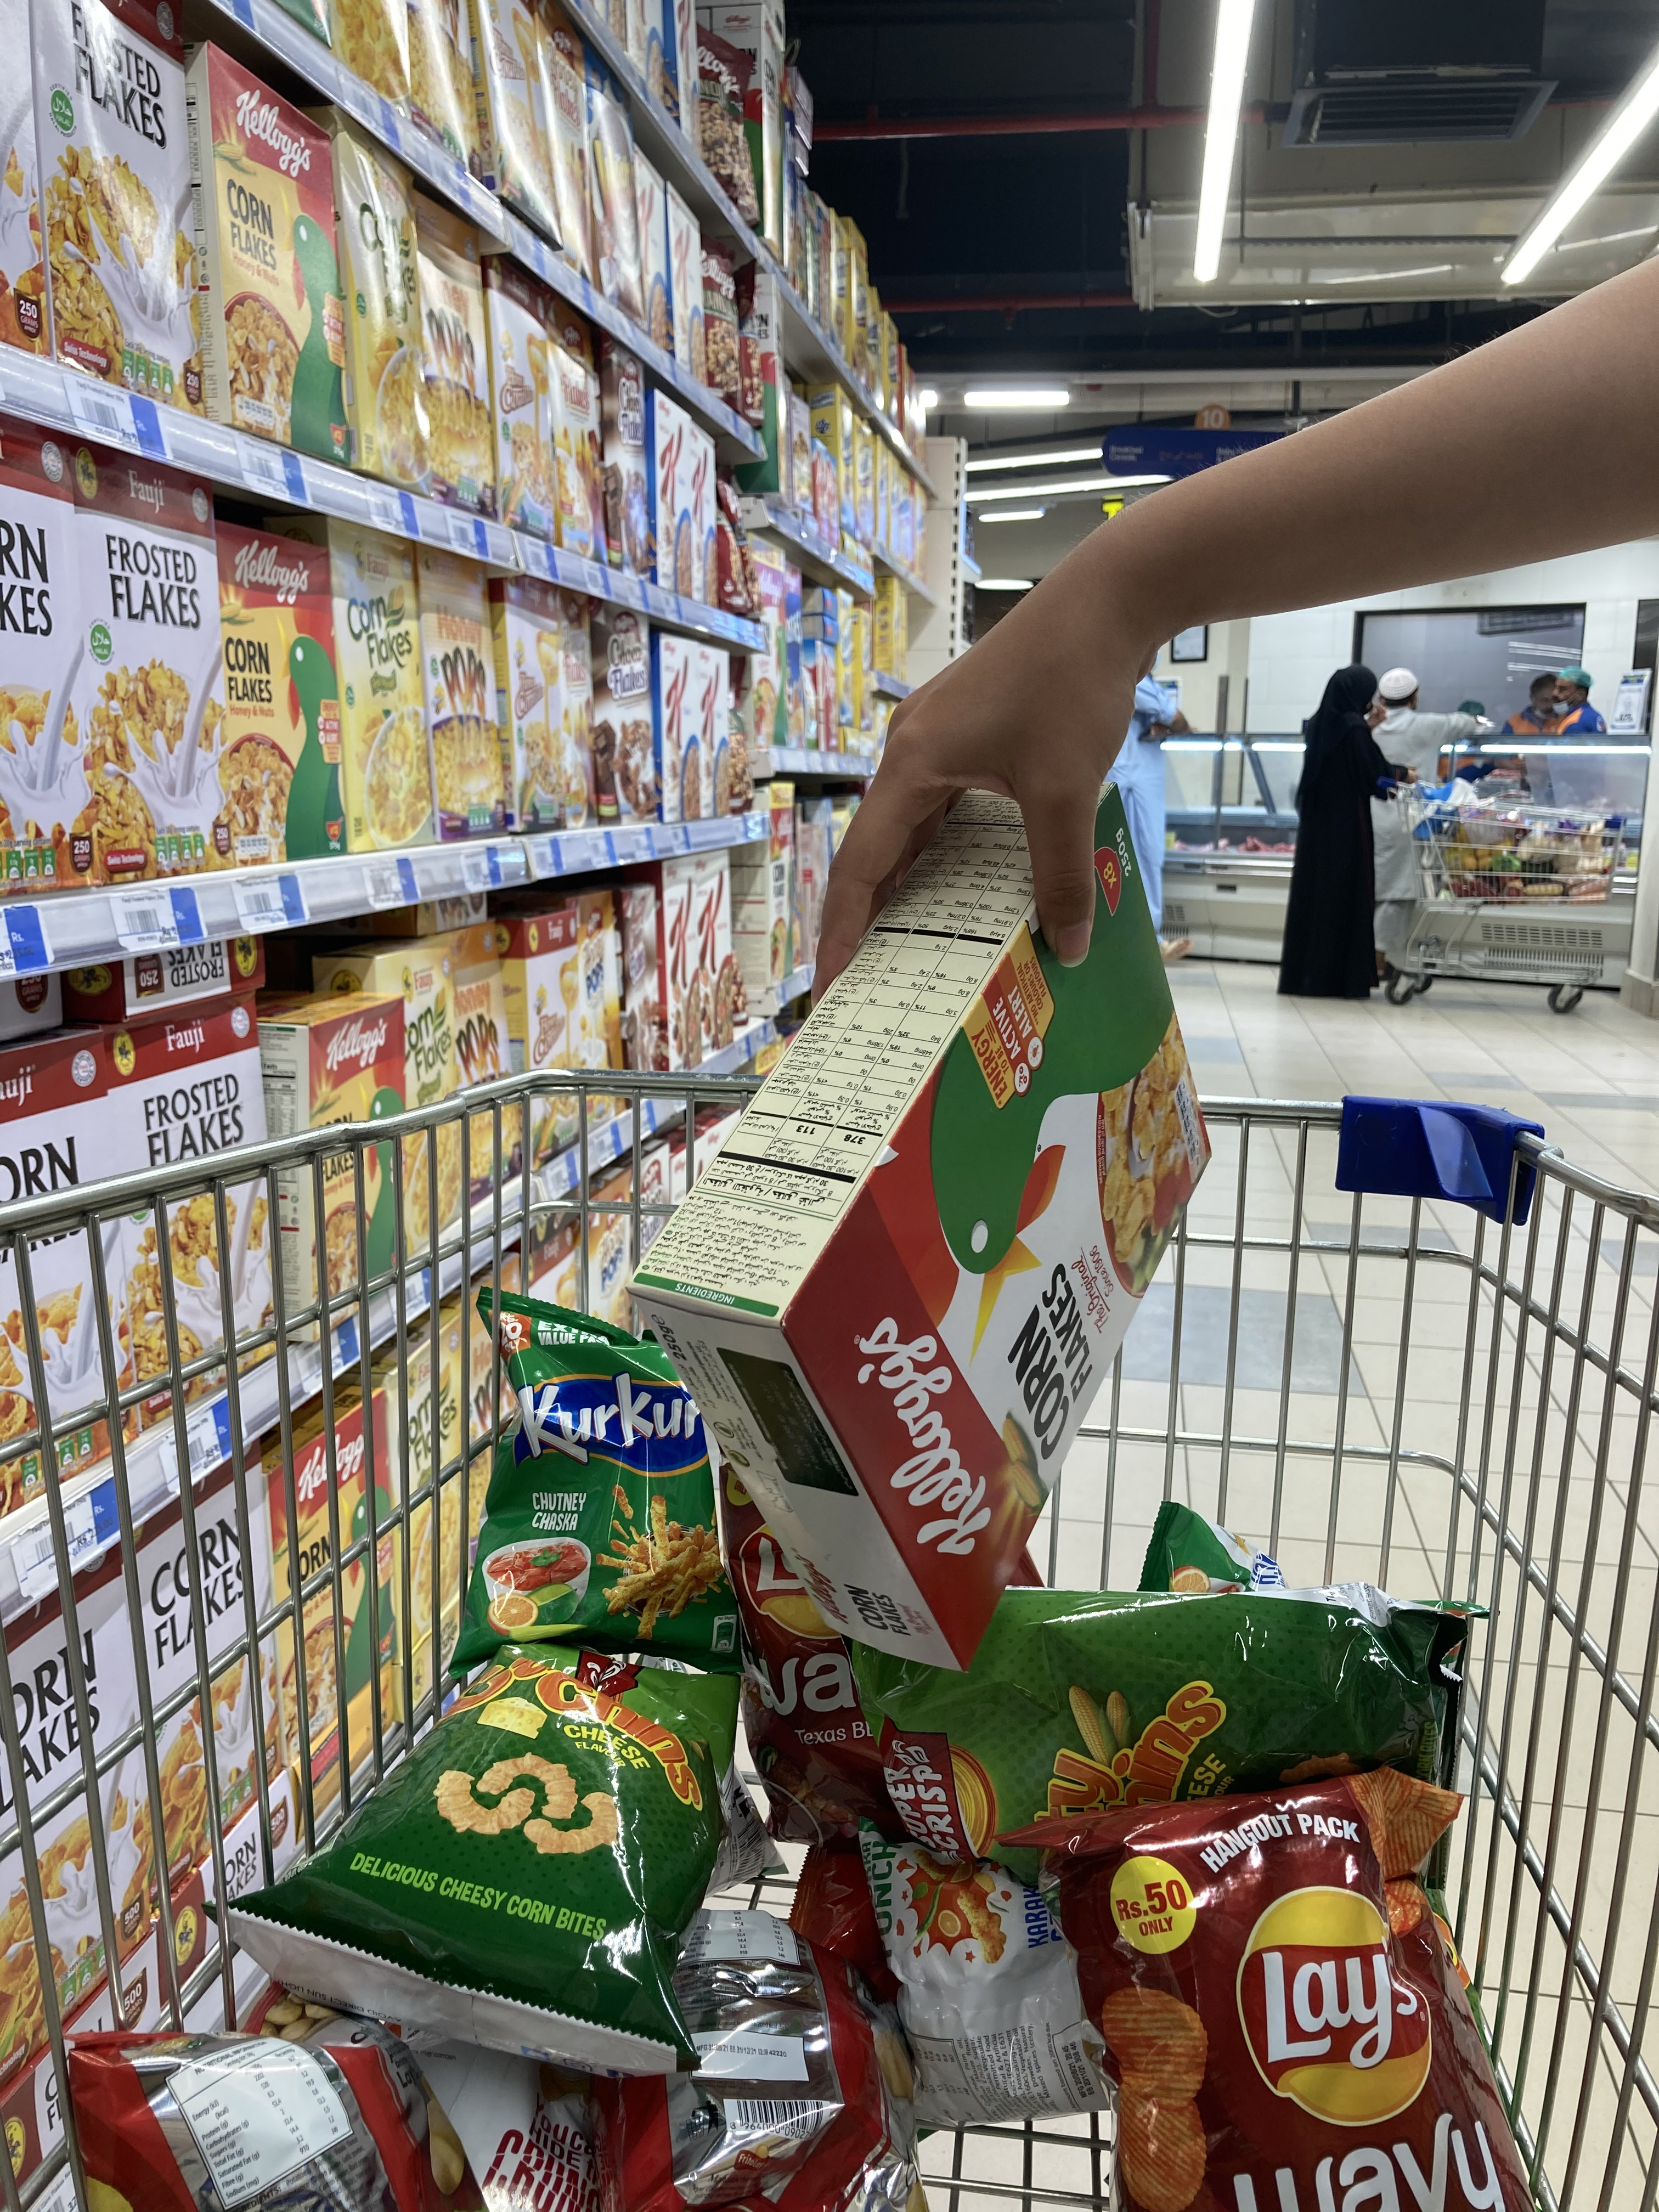Kellogg's Corn Flakes: (615, 780, 1222, 1683)
